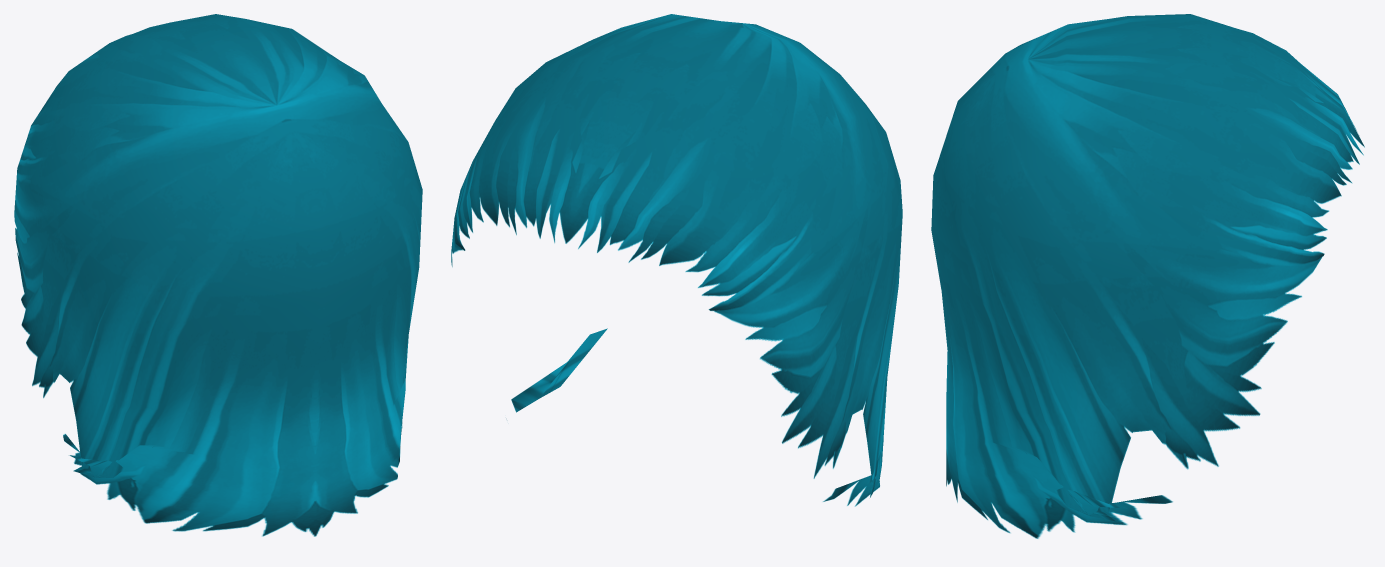
Rendered from m2-female-neck-bob-v1.glb.
3 renders of one model, left to right at view 1: azimuth 30°, elevation 25°; view 2: azimuth 150°, elevation 25°; view 3: azimuth 270°, elevation 25°, orthographic. The views are drawn at different scales.
Visible parts, largest first — view 1: m2-female-neck-bob-v1; view 2: m2-female-neck-bob-v1; view 3: m2-female-neck-bob-v1.
Boxes of the visible parts, x1,y1,x2,y2 form: m2-female-neck-bob-v1: (14, 14, 422, 536); m2-female-neck-bob-v1: (451, 14, 902, 506); m2-female-neck-bob-v1: (931, 14, 1364, 538).
Bounding box in the file's own units: 0.195 × 0.2428 × 0.2102.
1 material, 1 textured.
